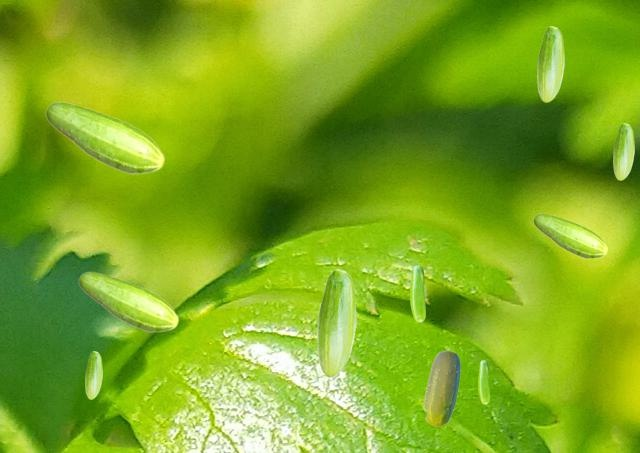cucumber: (45, 101, 164, 174), (78, 271, 178, 332), (317, 269, 355, 375), (533, 213, 607, 258), (423, 350, 459, 425), (537, 26, 563, 101), (613, 123, 633, 179), (410, 265, 424, 321), (85, 351, 101, 398), (478, 360, 488, 403)
